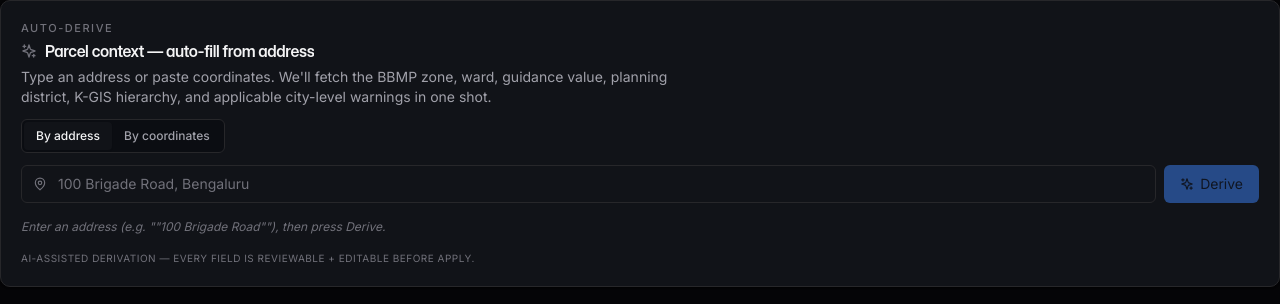
Test case: AutoFillParcelContextCard › lets the user toggle between by-address and by-coordinates modes
Expected: the field named "Parcel address" is shown, [21,165,1156,203]
Click the tab "By coordinates".
click(167, 136)  # box [112,122,222,150]
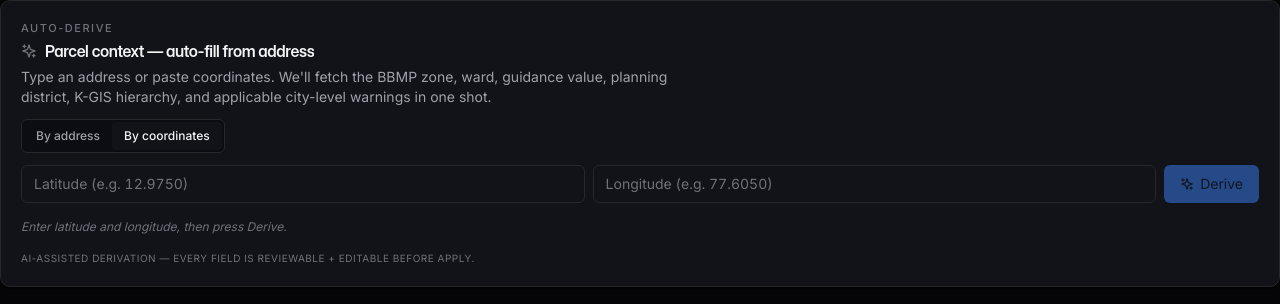
Now the number field labelled "Latitude" is shown, box [21,165,585,203]
Now the number field labelled "Longitude" is shown, box [593,165,1156,203]
